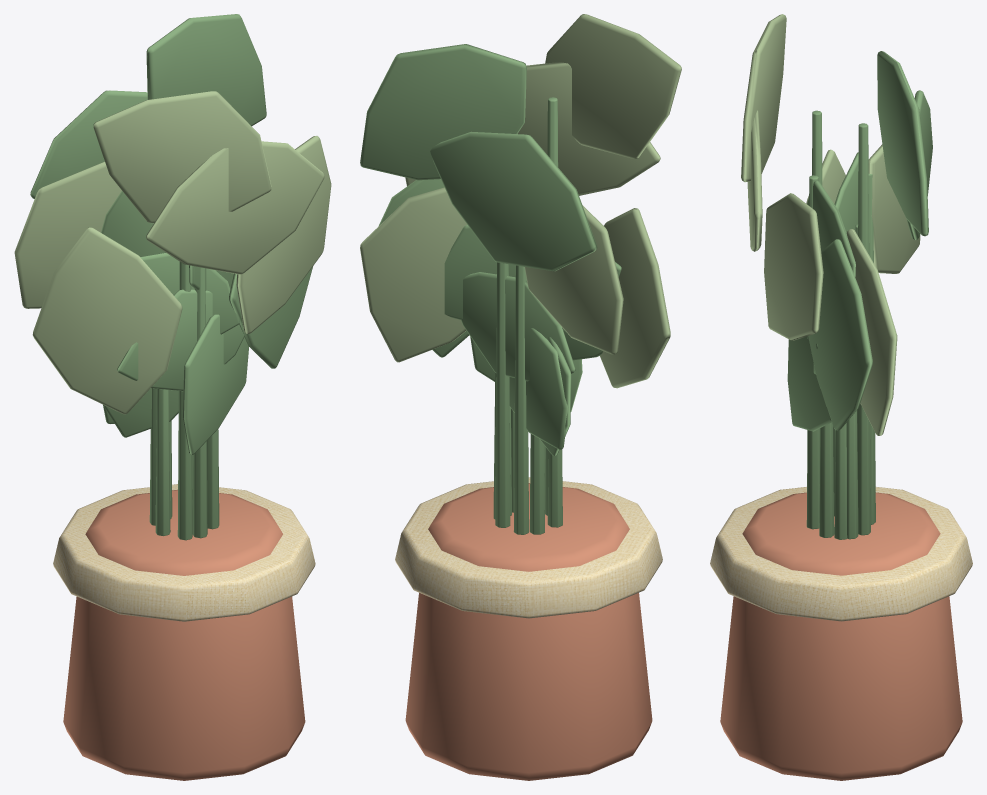
The model's file is large-plant.glb.
3 renders of one model, left to right at view 1: azimuth 30°, elevation 25°; view 2: azimuth 150°, elevation 25°; view 3: azimuth 270°, elevation 25°, orthographic. The views are drawn at different scales.
Parts seen in each view (by area): view 1: large-plant; view 2: large-plant; view 3: large-plant.
Boxes of the visible parts, bbox=[...] form: large-plant: bbox=[14, 14, 331, 780]; large-plant: bbox=[360, 14, 681, 780]; large-plant: bbox=[710, 14, 972, 780].
Bounding box in the file's own units: 0.5113 × 1.15 × 0.3989.
Materials: 4 (1 with a texture image).
